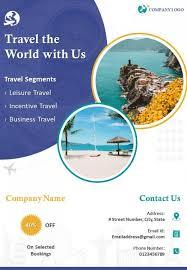paper: (1, 0, 187, 266)
